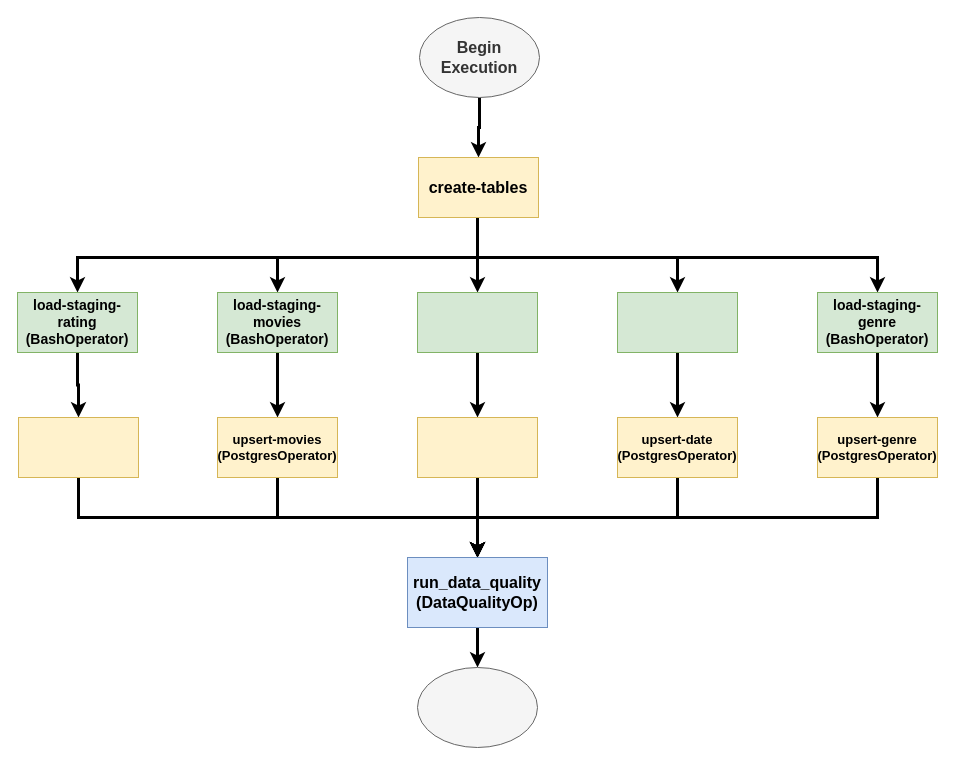
Some shapes in this 955 by 765 pixel diagram are drawn without their labels. The box of each missing label's shape, as (x1, y1, x2, y2) in pixels:
End Execution: (416, 666, 538, 748)
load-staging-cpi (BashOperator): (416, 292, 538, 352)
load-staging-date (BashOperator): (616, 292, 738, 352)
upsert-cpi (PostgresOperator): (416, 416, 538, 478)
upsert-ratings (PostgresOperator): (18, 416, 138, 478)
